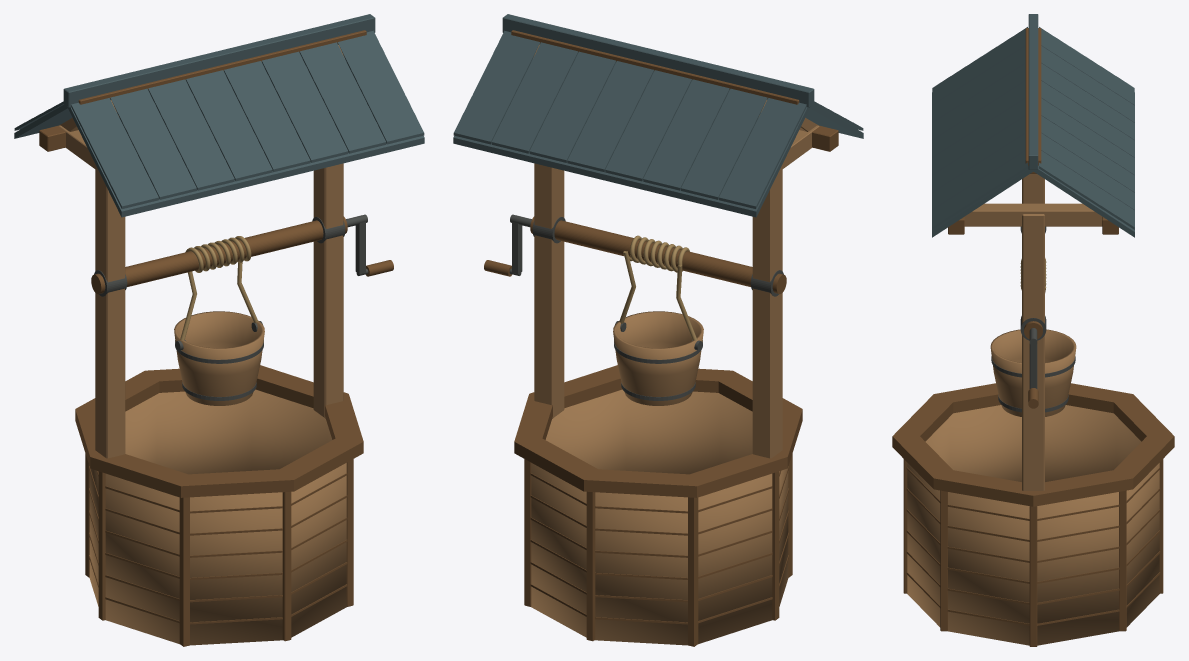
File: A-NEW-20261027-GARDEN-WELL-001_LOD0_R3.glb
3 renders of one model, left to right at view 1: azimuth 30°, elevation 25°; view 2: azimuth 150°, elevation 25°; view 3: azimuth 270°, elevation 25°, orthographic. The views are drawn at different scales.
Parts seen in each view (by area): view 1: open octagonal well wall, wide octagonal open rim, roof support post -0.54, roof support post 0.54, hollow curved stave bucket, ridge cap, horizontal wooden spindle, pitched roof substrate -1, ridge timber, corner stile 5, corner stile 6, continuous spindle rope coil (+59 smaller); view 2: open octagonal well wall, wide octagonal open rim, roof support post -0.54, roof support post 0.54, hollow curved stave bucket, ridge cap, horizontal wooden spindle, pitched roof substrate 1, ridge timber, corner stile 3, corner stile 2, continuous spindle rope coil (+59 smaller); view 3: open octagonal well wall, wide octagonal open rim, roof support post 0.54, hollow curved stave bucket, post crossbar 0.54, ridge cap, corner stile 0, corner stile 1, corner stile 7, ridge timber, pitched roof substrate -1, pitched roof substrate 1 (+9 smaller).
Boxes of the visible parts, left/top/right/bottom form: open octagonal well wall: left=89, top=389, right=346, bottom=645; wide octagonal open rim: left=75, top=365, right=363, bottom=497; roof support post -0.54: left=95, top=164, right=125, bottom=458; roof support post 0.54: left=313, top=163, right=343, bottom=418; hollow curved stave bucket: left=174, top=311, right=264, bottom=405; ridge cap: left=63, top=14, right=375, bottom=107; horizontal wooden spindle: left=91, top=216, right=347, bottom=294; pitched roof substrate -1: left=68, top=107, right=424, bottom=217; ridge timber: left=78, top=30, right=366, bottom=104; corner stile 5: left=179, top=497, right=189, bottom=646; corner stile 6: left=282, top=491, right=291, bottom=641; continuous spindle rope coil: left=185, top=236, right=251, bottom=272; open octagonal well wall: left=531, top=389, right=788, bottom=645; wide octagonal open rim: left=514, top=365, right=802, bottom=497; roof support post -0.54: left=752, top=164, right=782, bottom=458; roof support post 0.54: left=534, top=163, right=564, bottom=418; hollow curved stave bucket: left=613, top=311, right=703, bottom=405; ridge cap: left=502, top=14, right=814, bottom=107; horizontal wooden spindle: left=530, top=216, right=786, bottom=294; pitched roof substrate 1: left=453, top=107, right=809, bottom=217; ridge timber: left=511, top=30, right=799, bottom=104; corner stile 3: left=688, top=497, right=698, bottom=646; corner stile 2: left=586, top=491, right=595, bottom=641; continuous spindle rope coil: left=623, top=235, right=689, bottom=272; open octagonal well wall: left=907, top=405, right=1159, bottom=645; wide octagonal open rim: left=892, top=383, right=1174, bottom=506; roof support post 0.54: left=1022, top=214, right=1044, bottom=490; hollow curved stave bucket: left=990, top=329, right=1076, bottom=416; post crossbar 0.54: left=964, top=203, right=1102, bottom=226; ridge cap: left=1028, top=14, right=1038, bottom=169; corner stile 0: left=1029, top=506, right=1037, bottom=646; corner stile 1: left=1119, top=490, right=1126, bottom=631; corner stile 7: left=940, top=490, right=947, bottom=631; ridge timber: left=1025, top=28, right=1041, bottom=173; pitched roof substrate -1: left=932, top=92, right=1033, bottom=237; pitched roof substrate 1: left=1033, top=92, right=1134, bottom=237.
Size of the model in its own units: 1.61 by 2.54 by 1.28.
